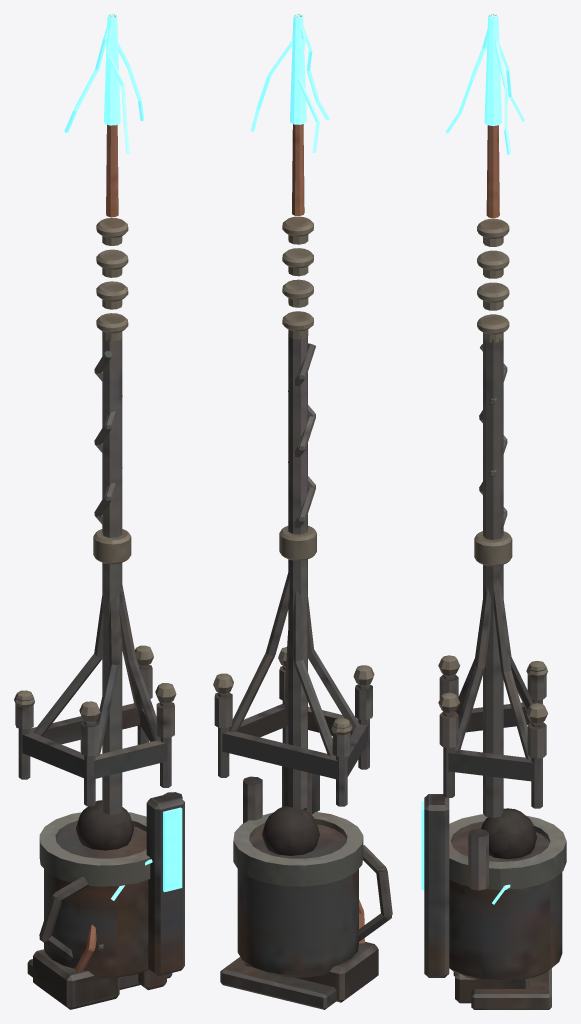
The model's file is lightning-rod.glb.
3 renders of one model, left to right at view 1: azimuth 30°, elevation 25°; view 2: azimuth 150°, elevation 25°; view 3: azimuth 270°, elevation 25°, orthographic.
Parts seen in each view (by area): view 1: body, anim_lit_strike; view 2: body, anim_lit_strike; view 3: body, anim_lit_strike.
Part boxes in pixels (box(x1,y1,x2,y2)): body: box(14, 14, 184, 1009); anim_lit_strike: box(64, 14, 152, 900); body: box(213, 14, 392, 1009); anim_lit_strike: box(251, 14, 329, 812); body: box(421, 14, 566, 1009); anim_lit_strike: box(445, 14, 524, 904).
Bounding box in the file's own units: 1.15 × 7.3 × 0.99.
Materials: 3 (3 with a texture image).
